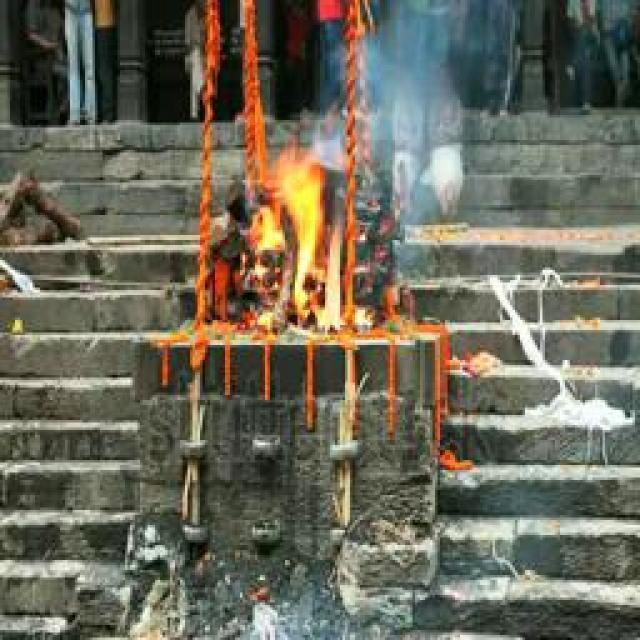Fire: (250, 145, 346, 335)
